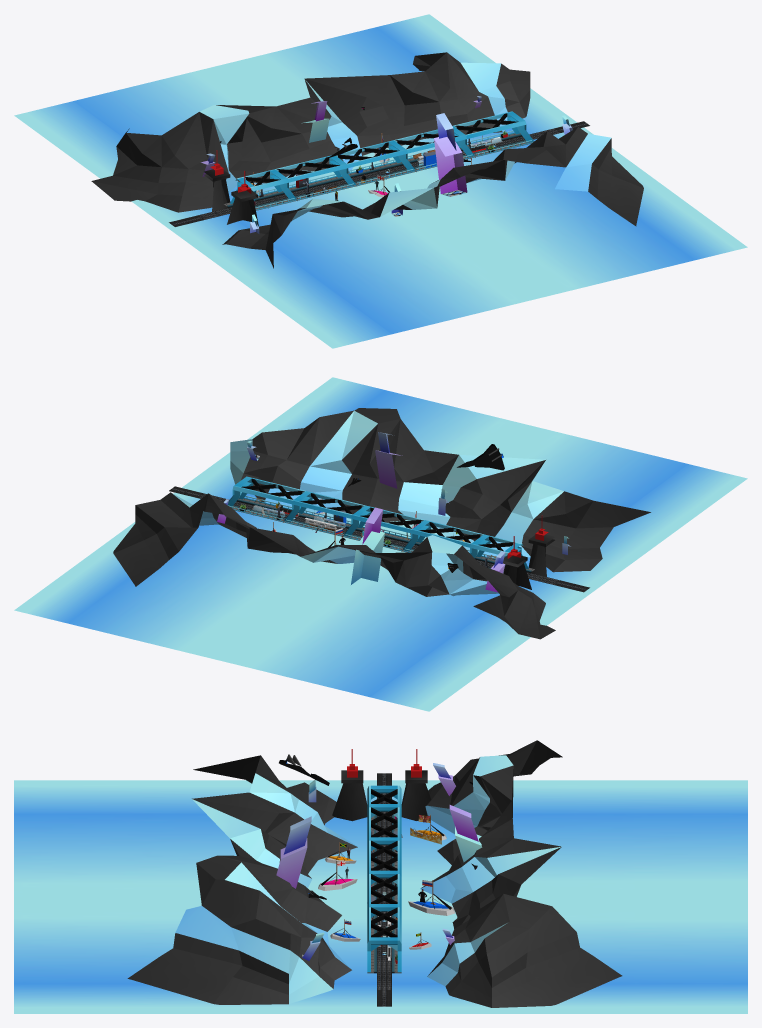
File: subwaysurferstest82.glb
The picture shows the model from 3 angles, top to bottom: view 1: azimuth 30°, elevation 25°; view 2: azimuth 150°, elevation 25°; view 3: azimuth 270°, elevation 25°; orthographic projection. The views are drawn at different scales.
Parts seen in each view (by area): view 1: Water, mountain.001, mountain, skyscraper, Overpass, Overpass.003, Overpass.002, Overpass.004, lighttower, Overpass.001, lighttower.001, skyscraper.002; view 2: Water, mountain, mountain.001, skyscraper.002, Overpass.001, Overpass, Overpass.003, Overpass.002, skyscraper, lighttower, Overpass.004, lighttower.001 (+1 smaller); view 3: Water, mountain, mountain.001, lighttower, skyscraper, Overpass, lighttower.001, Overpass.002, skyscraper.002, Overpass.001, Overpass.003, Overpass.004 (+1 smaller).
Part boxes in pixels (x1,y1,x2,y2): Water: (14,14,747,348); mountain.001: (91,52,530,212); mountain: (222,127,643,268); skyscraper: (434,113,467,196); Overpass: (453,111,534,142); Overpass.003: (275,155,356,185); Overpass.002: (336,140,416,171); Overpass.004: (230,169,297,203); lighttower: (227,171,258,226); Overpass.001: (394,126,475,157); lighttower.001: (203,150,230,211); skyscraper.002: (301,101,329,142); Water: (14,377,747,711); mountain: (230,408,650,572); mountain.001: (113,492,555,639); skyscraper.002: (351,507,384,584); Overpass.001: (283,491,364,522); Overpass: (228,476,305,507); Overpass.003: (402,520,483,551); Overpass.002: (343,505,424,536); skyscraper: (375,432,402,488); lighttower: (528,515,554,576); Overpass.004: (470,534,528,569); lighttower.001: (503,536,531,589); Water: (14,780,747,1013); mountain: (127,755,357,1004); mountain.001: (420,740,622,1007); lighttower: (332,749,367,821); skyscraper: (276,816,311,888); Overpass: (367,907,401,972); lighttower.001: (401,749,431,820); Overpass.002: (367,840,401,884); skyscraper.002: (449,805,482,862); Overpass.001: (367,874,401,917); Overpass.003: (367,807,401,850); Overpass.004: (367,785,401,817).
Size of the model in its own units: 584 by 118 by 744.
4 materials, 4 textured.
